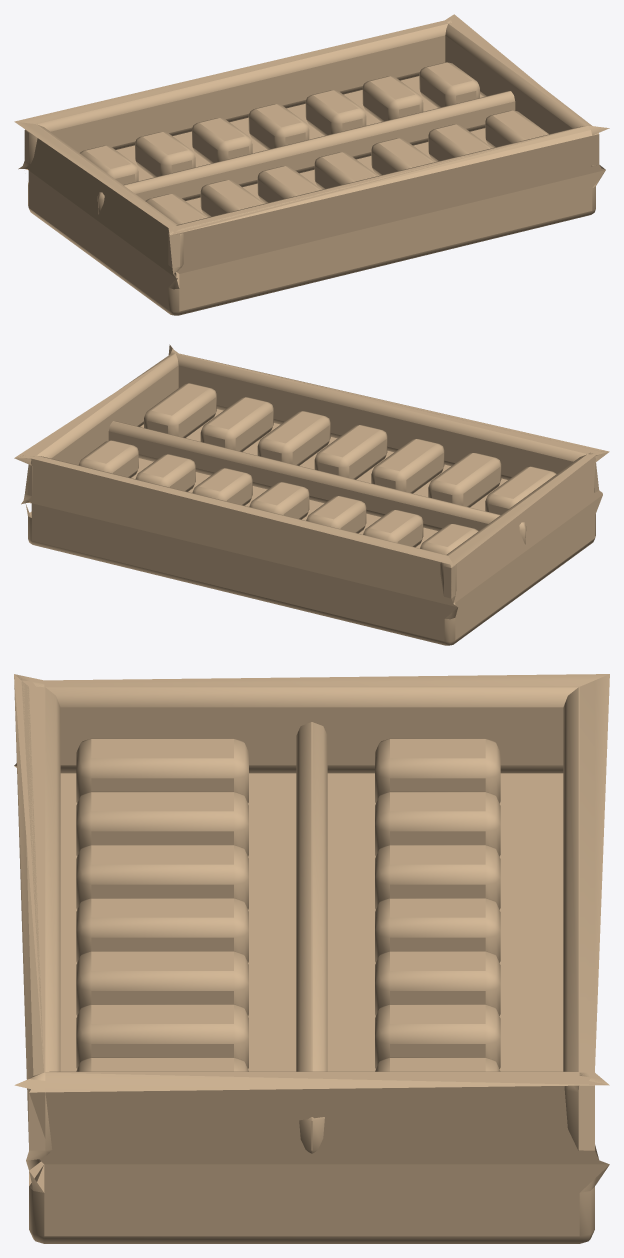
The model's file is BanTinh_Go.glb.
The picture shows the model from 3 angles, top to bottom: view 1: azimuth 30°, elevation 25°; view 2: azimuth 150°, elevation 25°; view 3: azimuth 270°, elevation 25°; orthographic projection. The views are drawn at different scales.
Parts seen in each view (by area): view 1: BanTinh_Go; view 2: BanTinh_Go; view 3: BanTinh_Go.
Part boxes in pixels (bbox=[...]): BanTinh_Go: bbox=[14, 14, 609, 315]; BanTinh_Go: bbox=[14, 344, 609, 645]; BanTinh_Go: bbox=[14, 674, 609, 1243].
Bounding box in the file's own units: 0.3096 × 0.06 × 0.1896.
